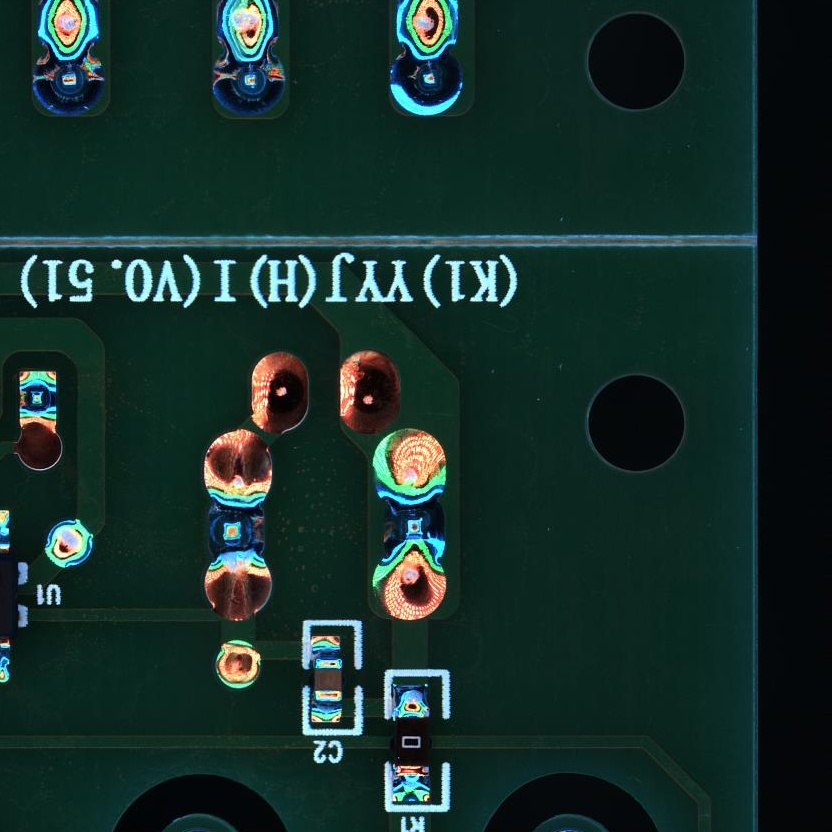spot: (27, 45, 106, 119), (386, 44, 466, 117), (210, 45, 287, 117), (198, 496, 272, 569), (374, 494, 449, 566), (43, 517, 95, 570), (15, 369, 56, 428)
